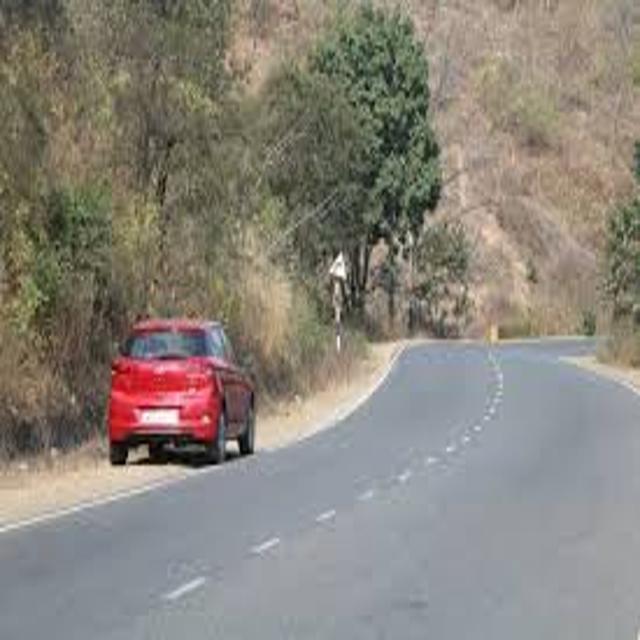car: (107, 321, 255, 461)
